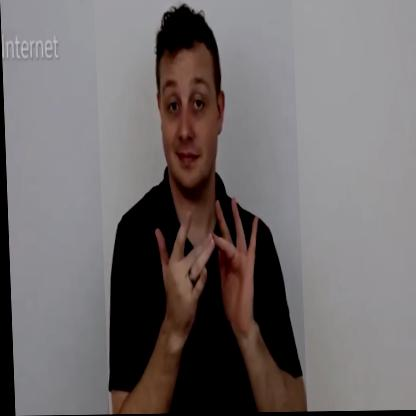Internet: (95, 0, 305, 415)
